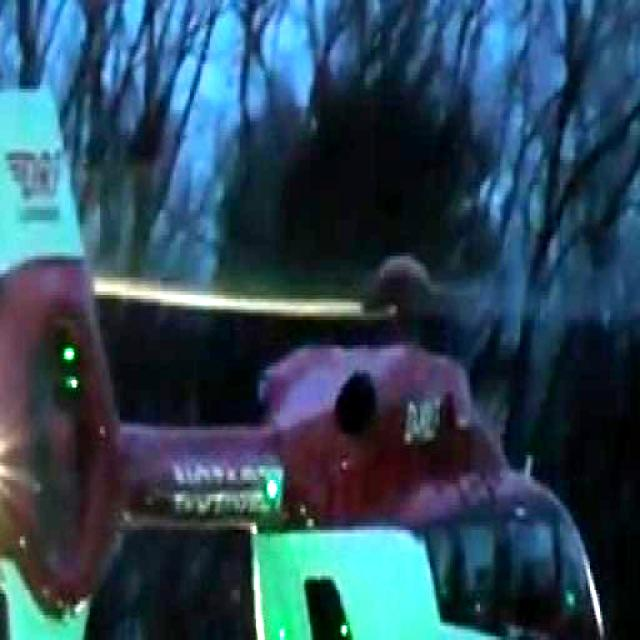drone: (0, 81, 620, 640)
